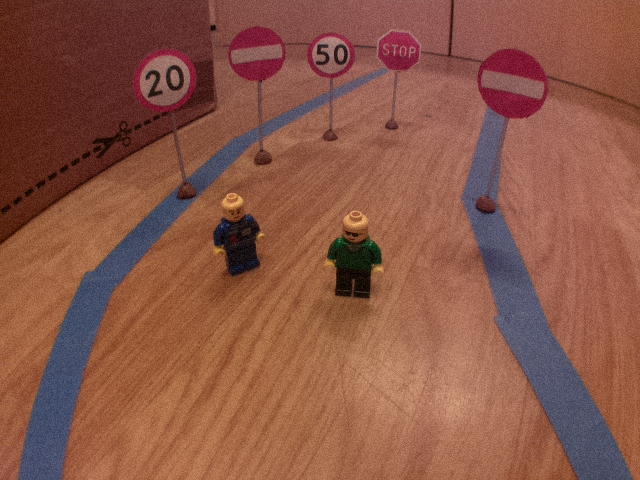LEGO_person: (321, 208, 386, 302), (209, 191, 268, 279)
ogr_20: (130, 45, 199, 115)
ogr_50: (306, 31, 357, 79)
stop: (374, 27, 424, 72)
zakaz: (475, 47, 550, 121), (226, 24, 287, 83)
